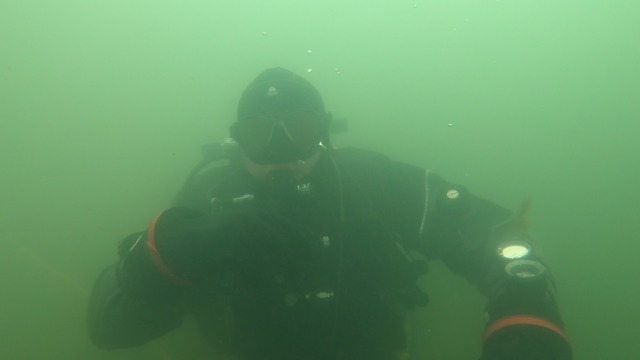Diver: (90, 39, 593, 357)
Hand: (117, 189, 273, 288)
Head: (209, 55, 365, 237)
